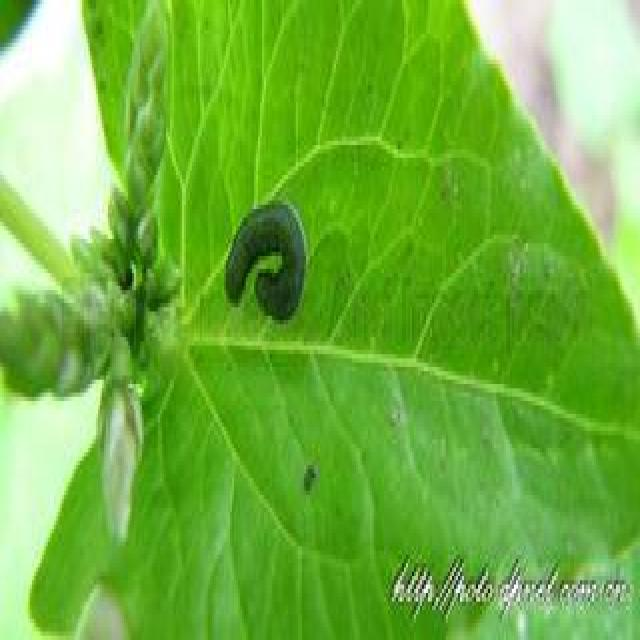BeetArmyWorm-Larva-: (220, 192, 316, 334)
